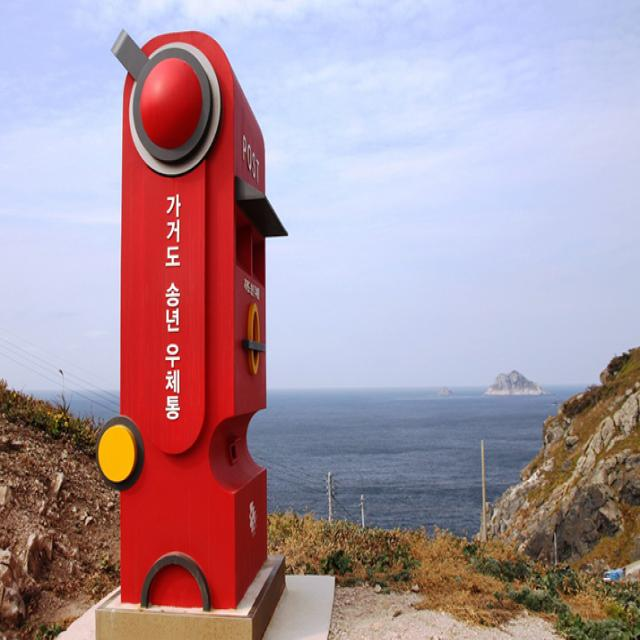Post Box: (98, 23, 294, 610)
